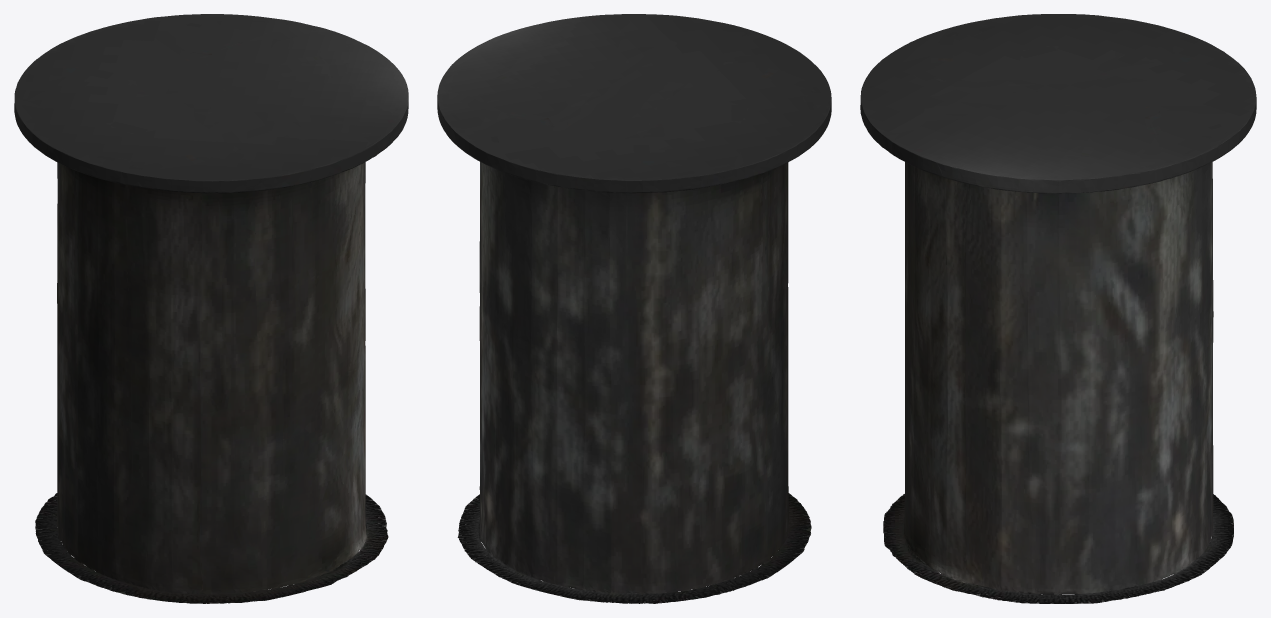
File: d6db8e7a-ec7a-4a2a-b708-eb4f60894fca.glb
3 renders of one model, left to right at view 1: azimuth 30°, elevation 25°; view 2: azimuth 150°, elevation 25°; view 3: azimuth 270°, elevation 25°, orthographic.
Visible parts, largest first — view 1: world; view 2: world; view 3: world.
Part boxes in pixels (<box>): world: <box>14,14,408,603</box>; world: <box>437,14,831,603</box>; world: <box>860,14,1256,603</box>.
Bounding box in the file's own units: 0.827 × 0.9987 × 0.8265.
1 material, 1 textured.
